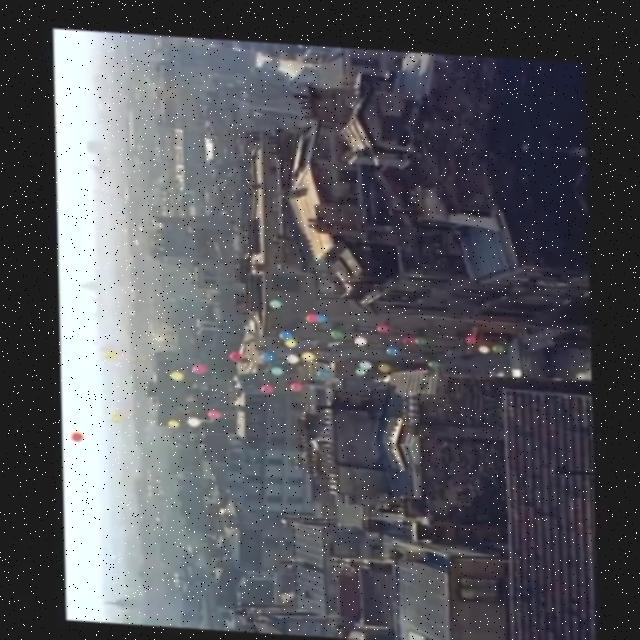balloon: (98, 346, 119, 358), (105, 411, 123, 422), (206, 405, 222, 416), (163, 416, 181, 425), (67, 430, 81, 441), (189, 360, 206, 369), (351, 330, 366, 340), (184, 415, 198, 424), (270, 361, 281, 372), (329, 325, 340, 336), (276, 327, 293, 334), (312, 308, 325, 317), (287, 379, 301, 387), (298, 346, 312, 354), (357, 355, 371, 363), (169, 367, 179, 378), (258, 381, 270, 390), (425, 353, 437, 362), (285, 335, 295, 345), (383, 341, 397, 348), (258, 348, 270, 356), (284, 350, 296, 358), (268, 295, 280, 303), (302, 308, 314, 316), (379, 358, 389, 367), (476, 339, 488, 346), (377, 320, 386, 328), (411, 331, 423, 337), (354, 363, 365, 369), (492, 338, 502, 344), (465, 329, 473, 336)
